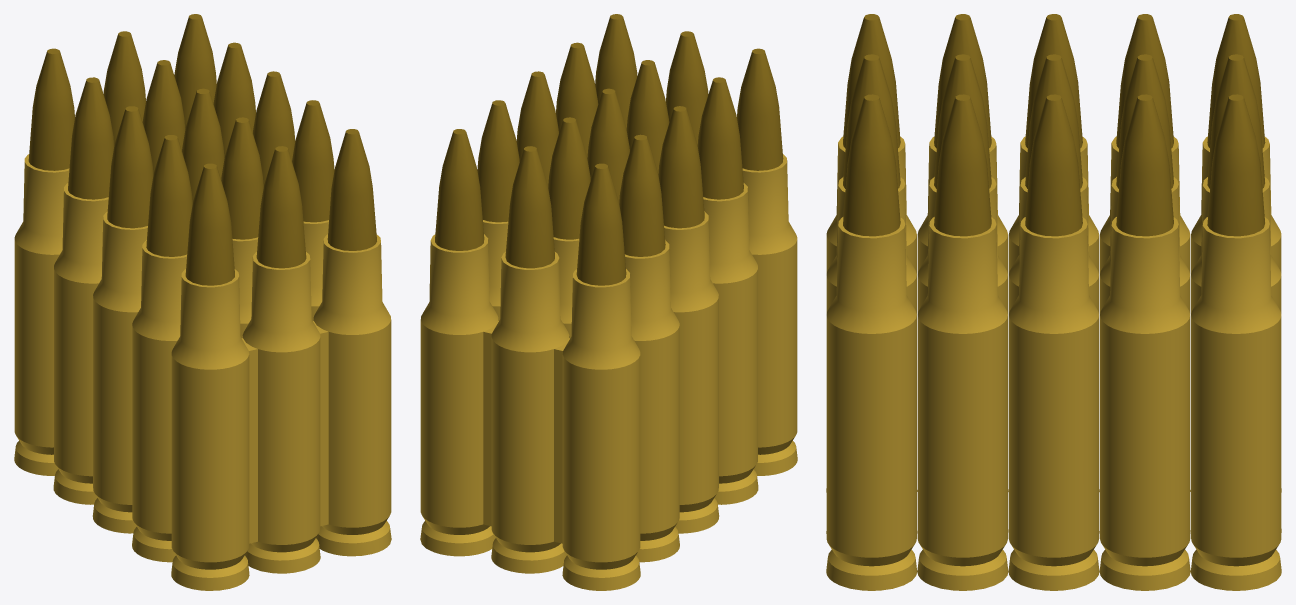
File: big_ammo.fbx
3 renders of one model, left to right at view 1: azimuth 30°, elevation 25°; view 2: azimuth 150°, elevation 25°; view 3: azimuth 270°, elevation 25°, orthographic. The views are drawn at different scales.
Visible parts, largest first — view 1: ammo; view 2: ammo; view 3: ammo.
Part boxes in pixels (x1=…): ammo: x1=14, y1=14, x2=391, y2=590; ammo: x1=420, y1=14, x2=797, y2=590; ammo: x1=826, y1=14, x2=1281, y2=590.
Size of the model in its own units: 6.73 by 12.5 by 10.89.
